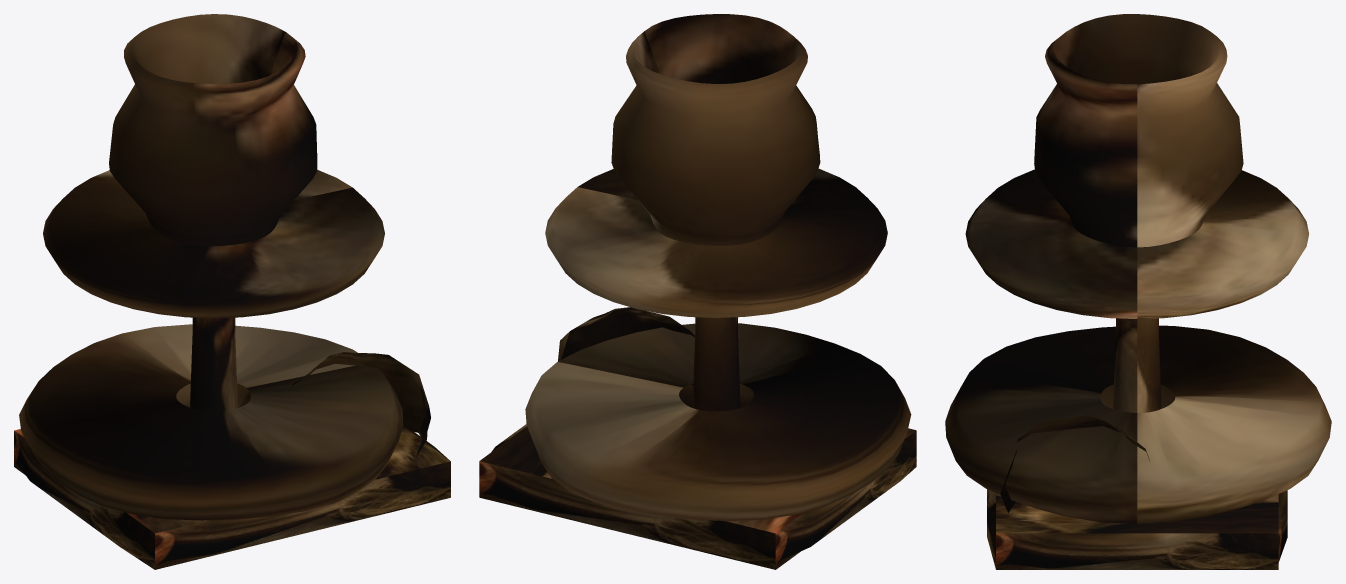
Rendered from potters-wheel.glb.
The picture shows the model from 3 angles, left to right: view 1: azimuth 30°, elevation 25°; view 2: azimuth 150°, elevation 25°; view 3: azimuth 270°, elevation 25°; orthographic projection.
Parts seen in each view (by area): view 1: HeroRelicMonument; view 2: HeroRelicMonument; view 3: HeroRelicMonument.
Part boxes in pixels (x1=…): HeroRelicMonument: x1=14, y1=14, x2=450, y2=569; HeroRelicMonument: x1=479, y1=14, x2=916, y2=569; HeroRelicMonument: x1=945, y1=14, x2=1331, y2=569.
Bounding box in the file's own units: 1.51 × 1.81 × 1.44.
1 material, 1 textured.
